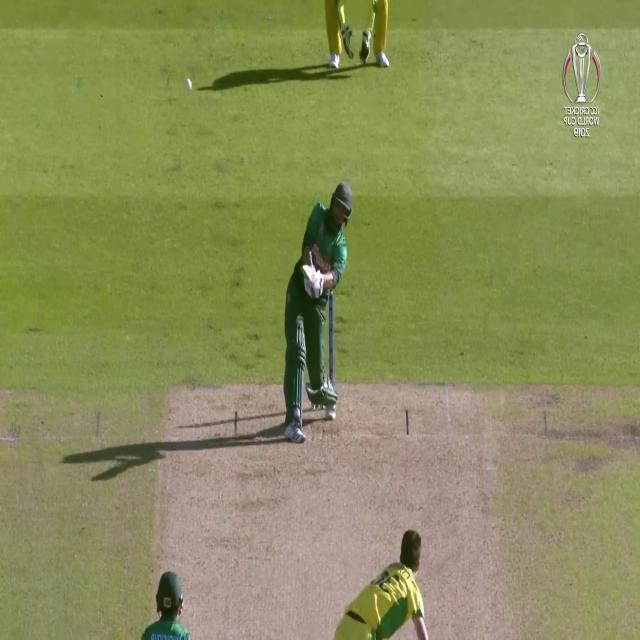ball: (184, 74, 195, 95)
